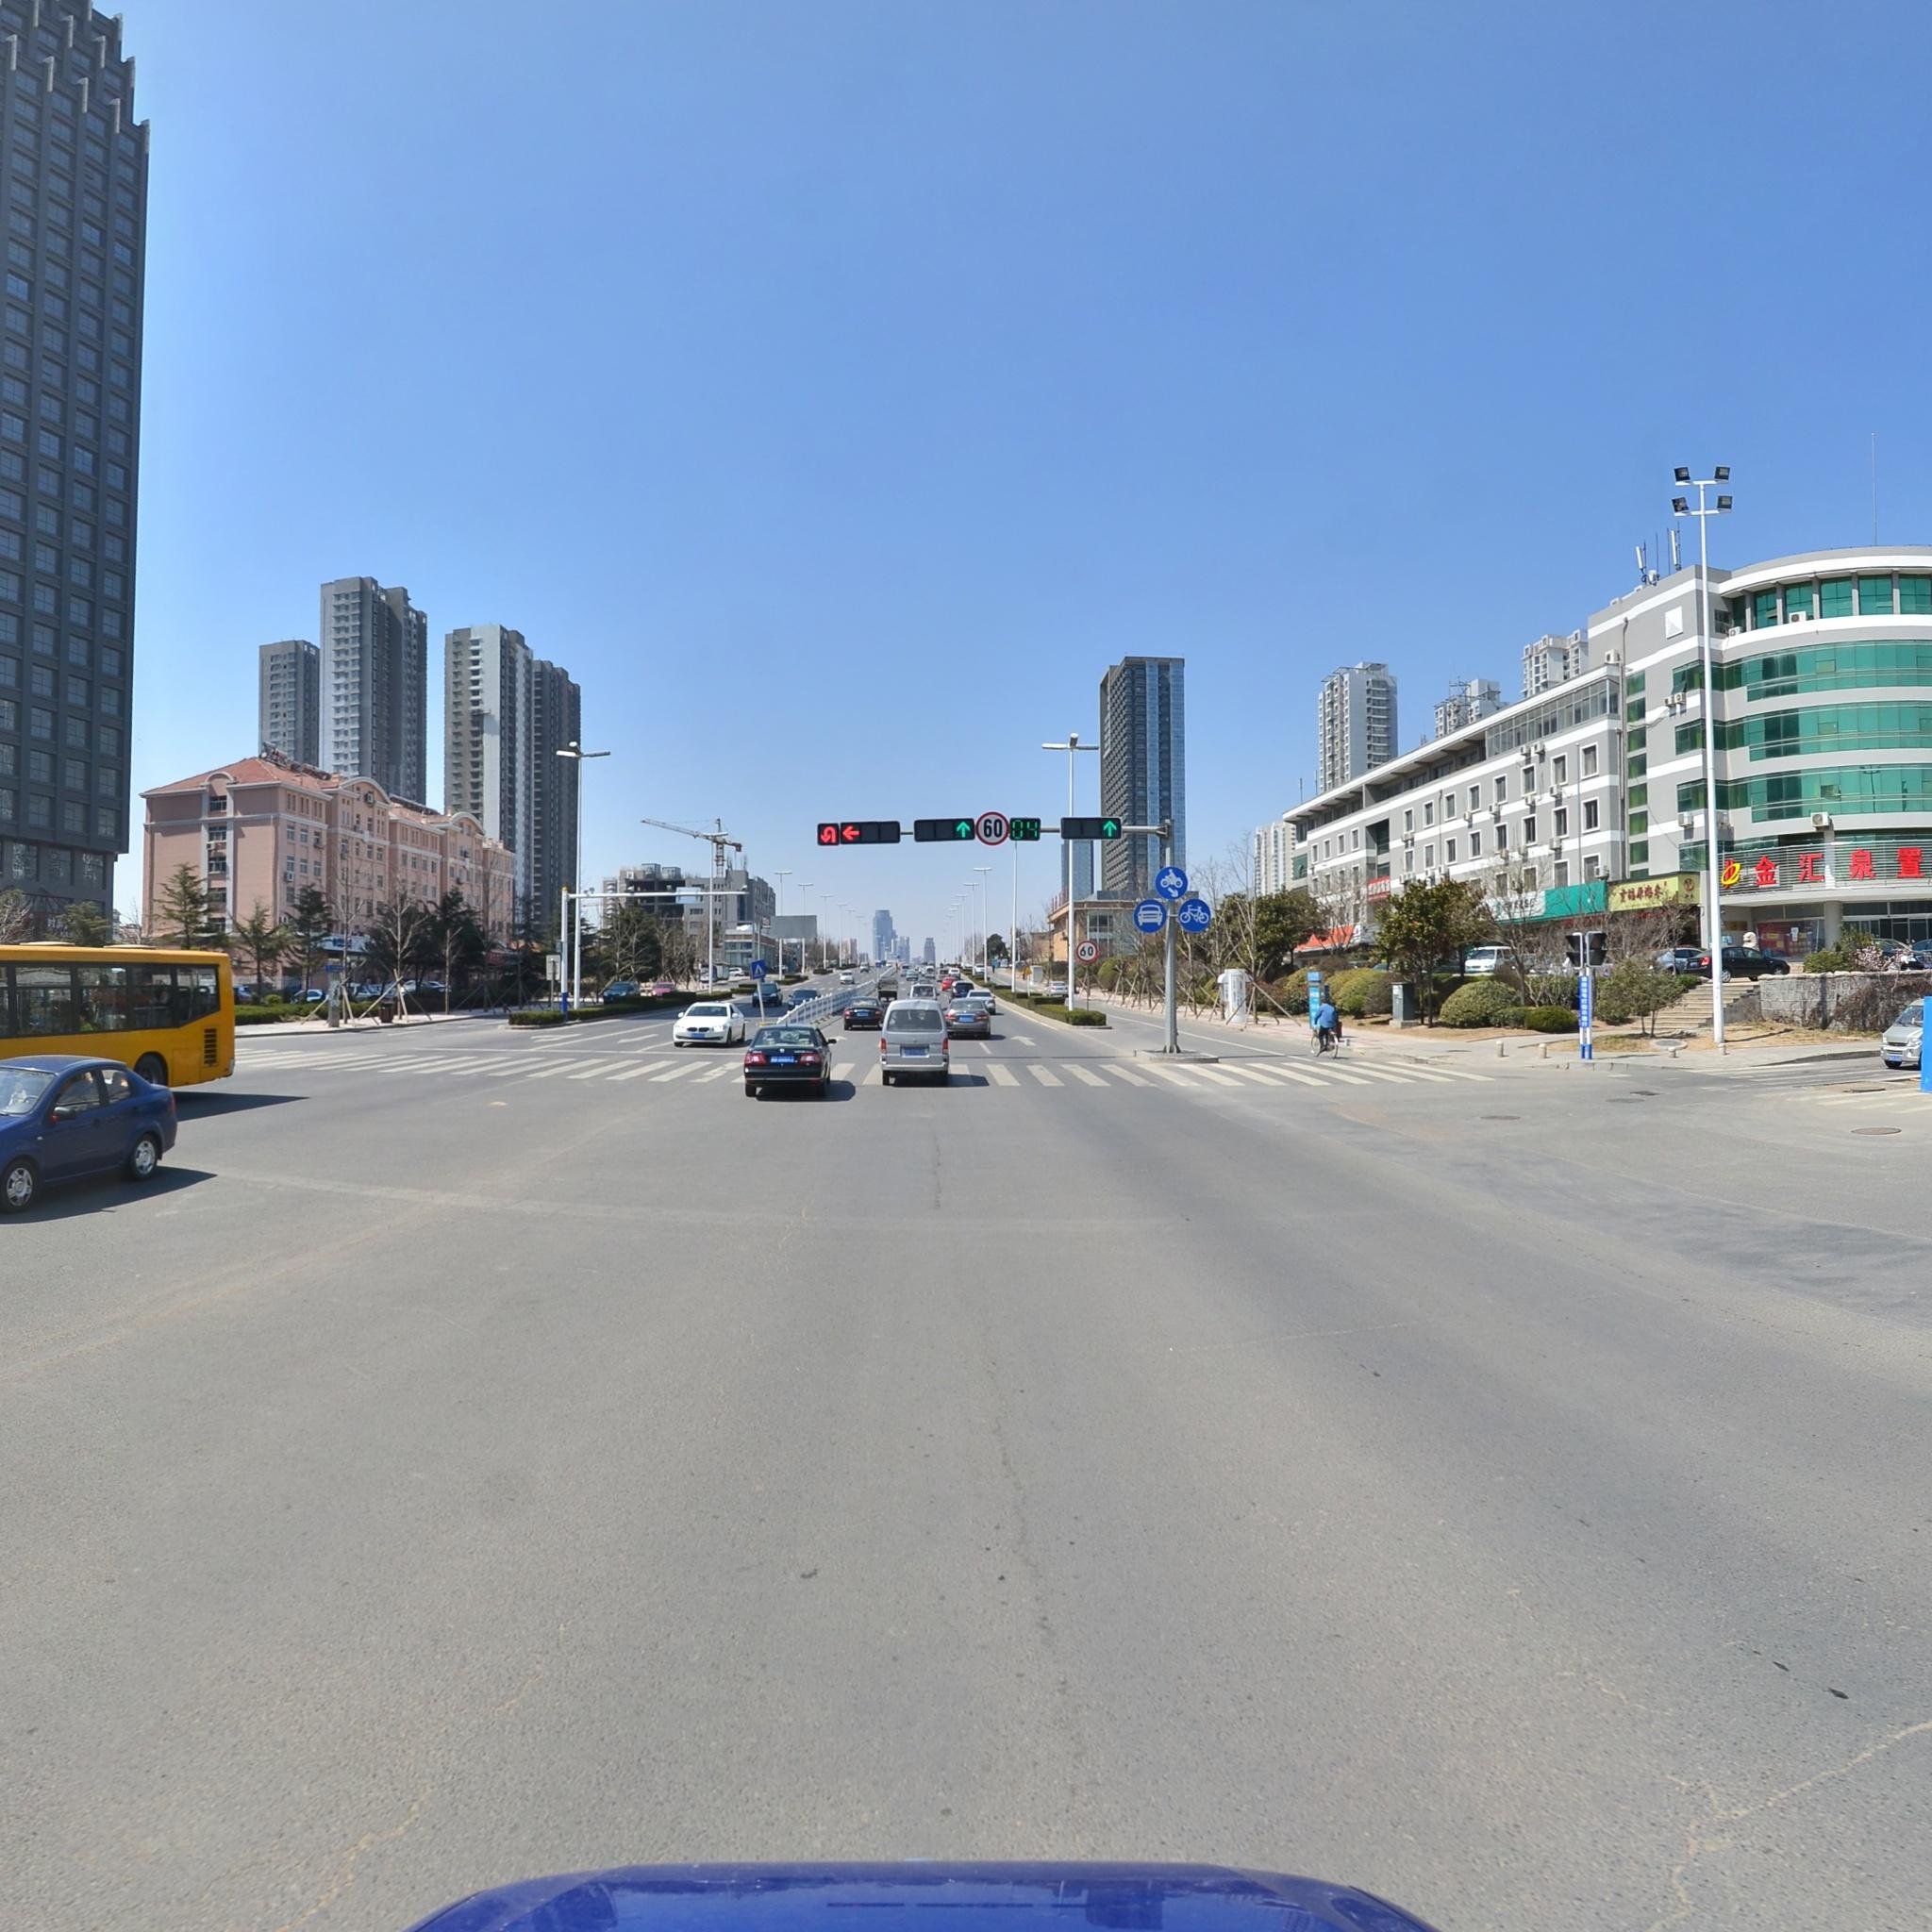i2: (1178, 899, 1212, 932)
i4: (1132, 899, 1168, 934)
pl60: (975, 812, 1008, 846), (1076, 941, 1099, 962)
